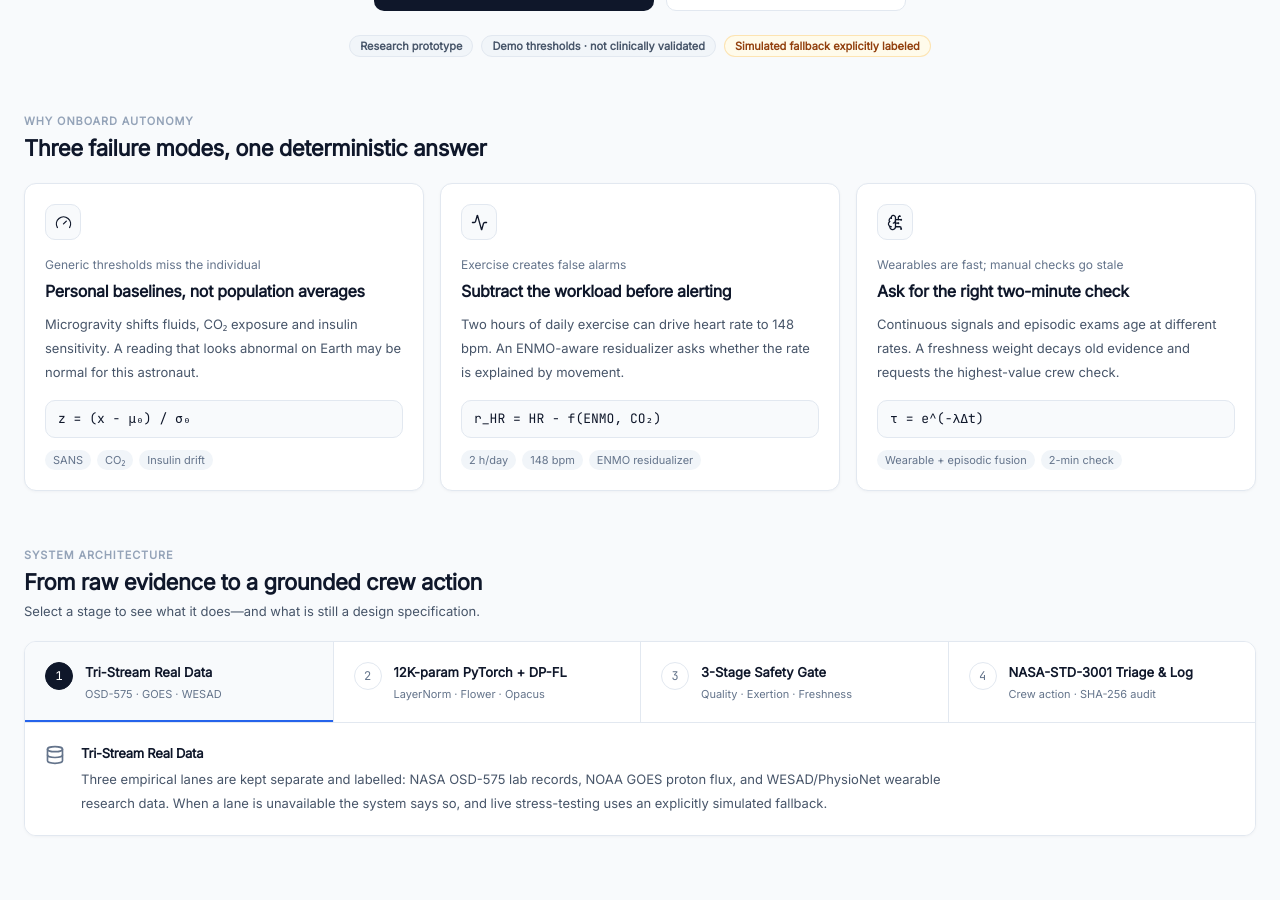
Overview landing page › reveals a two-sentence architecture summary on demand
The width and height of the screenshot is (1280, 900).
(page scrolled)
Click the tab "3 3-Stage Safety Gate Quality · Exertion · Freshness".
click(794, 682)  # box [640,642,948,722]
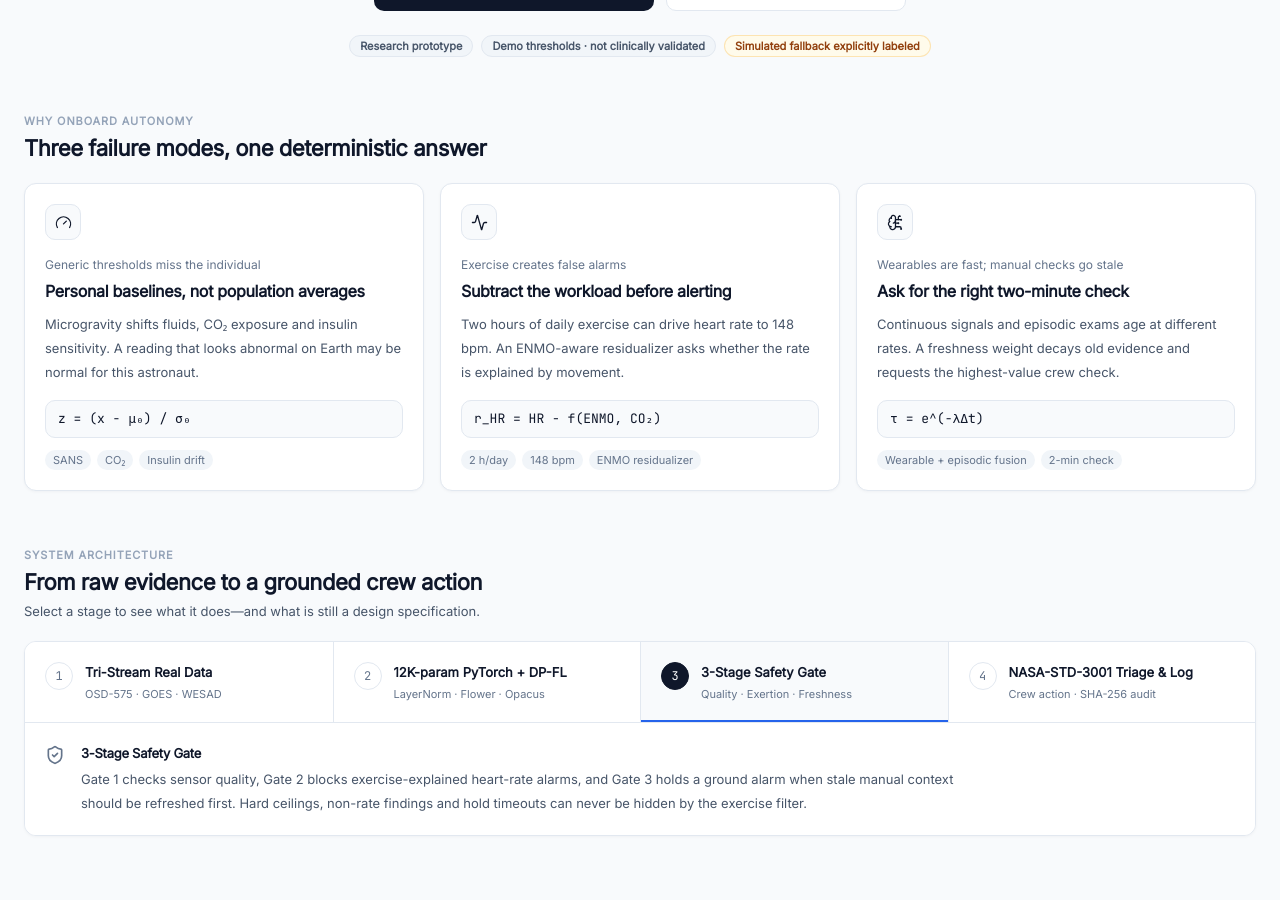
Expected: the panel shows "Hard ceilings", [81,771,953,811]
Click the tab "1 Tri-Stream Real Data OSD-575 · GOES · WESAD".
click(179, 682)  # box [25,642,332,722]
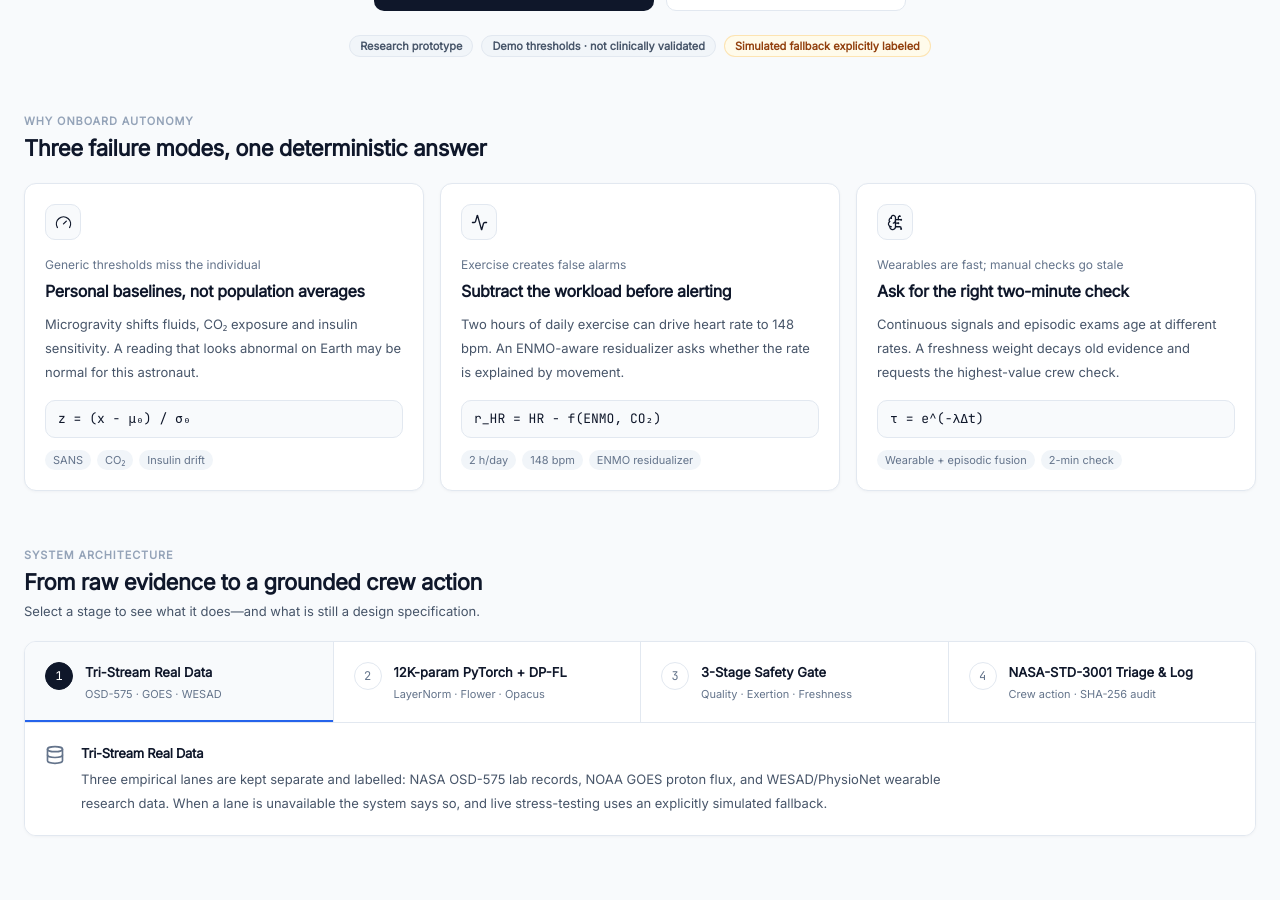
Expected: the panel shows "explicitly simulated fallback", [81,771,940,811]
